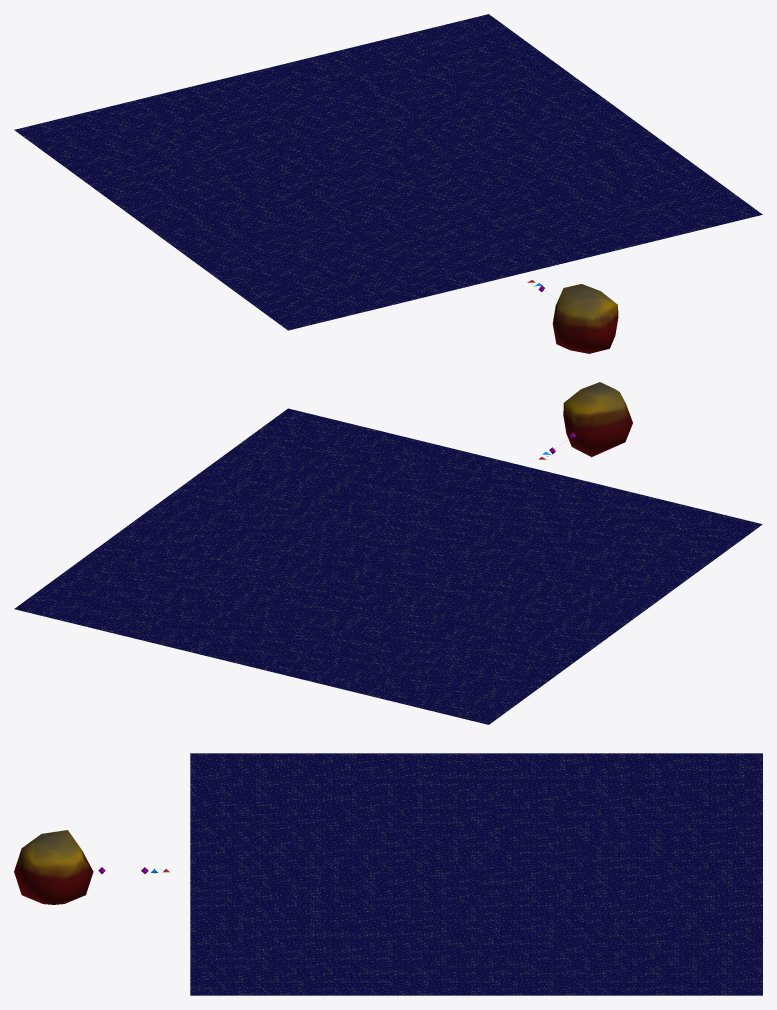
The model's file is PacifismModels.dae.
3 views of the same model, one above another, from view 1: azimuth 30°, elevation 25°; view 2: azimuth 150°, elevation 25°; view 3: azimuth 270°, elevation 25° (orthographic). The views are drawn at different scales.
Visible parts, largest first — view 1: Arena, Explosion; view 2: Arena, Explosion; view 3: Arena, Explosion.
Boxes of the visible parts, x1=… form: Arena: x1=14, y1=14, x2=762, y2=330; Explosion: x1=552, y1=284, x2=618, y2=353; Arena: x1=14, y1=408, x2=762, y2=724; Explosion: x1=563, y1=382, x2=632, y2=457; Arena: x1=190, y1=753, x2=762, y2=995; Explosion: x1=14, y1=830, x2=93, y2=904.
Size of the model in its own units: 98 by 128 by 12.21.
6 materials, 6 textured.
